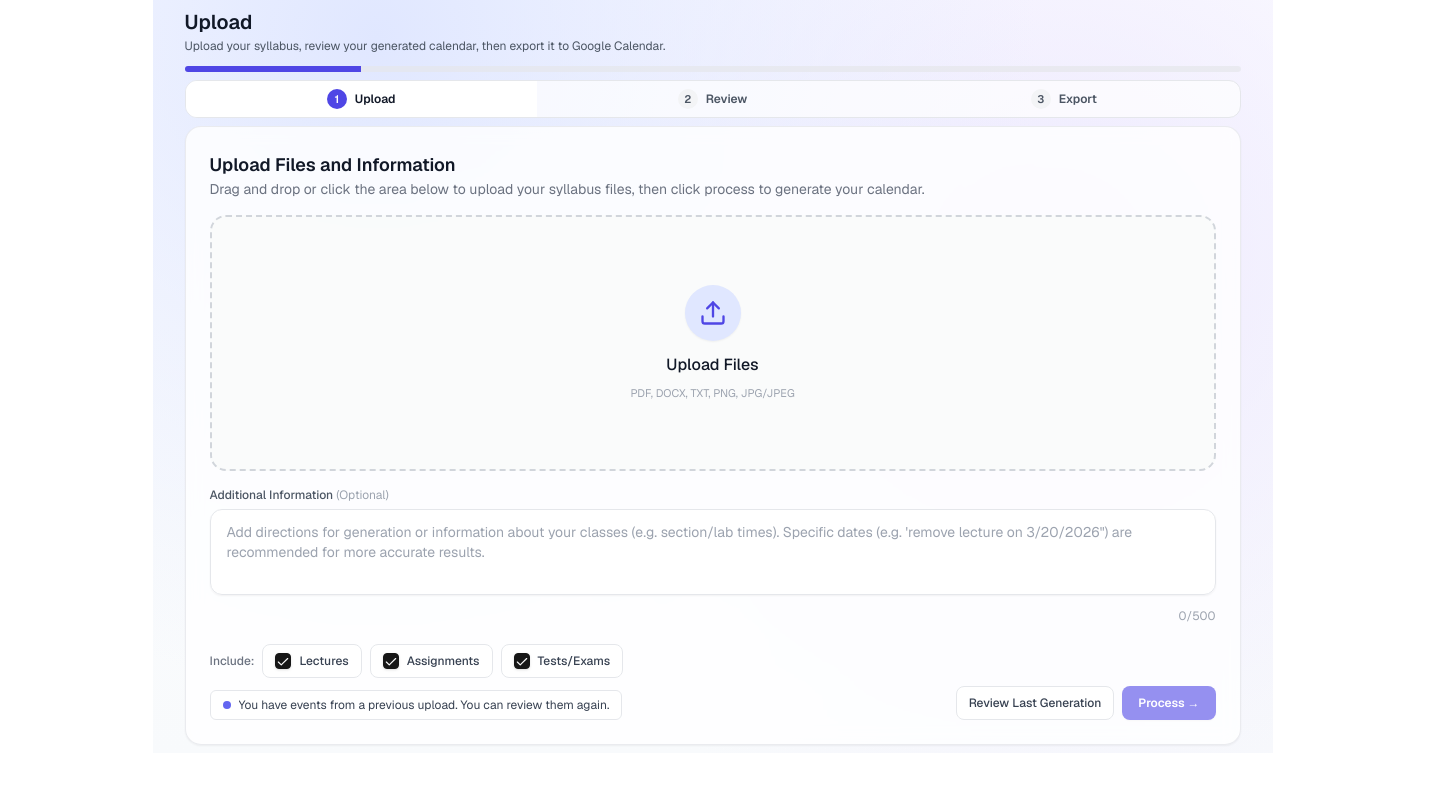
Test: Uploads unit tests › Step 2 - Review panel › category filter buttons › renders all four filter buttons
The width and height of the screenshot is (1440, 810).
Click the button "2 Review" at (712, 99), box x1=537 y1=81 x2=888 y2=117
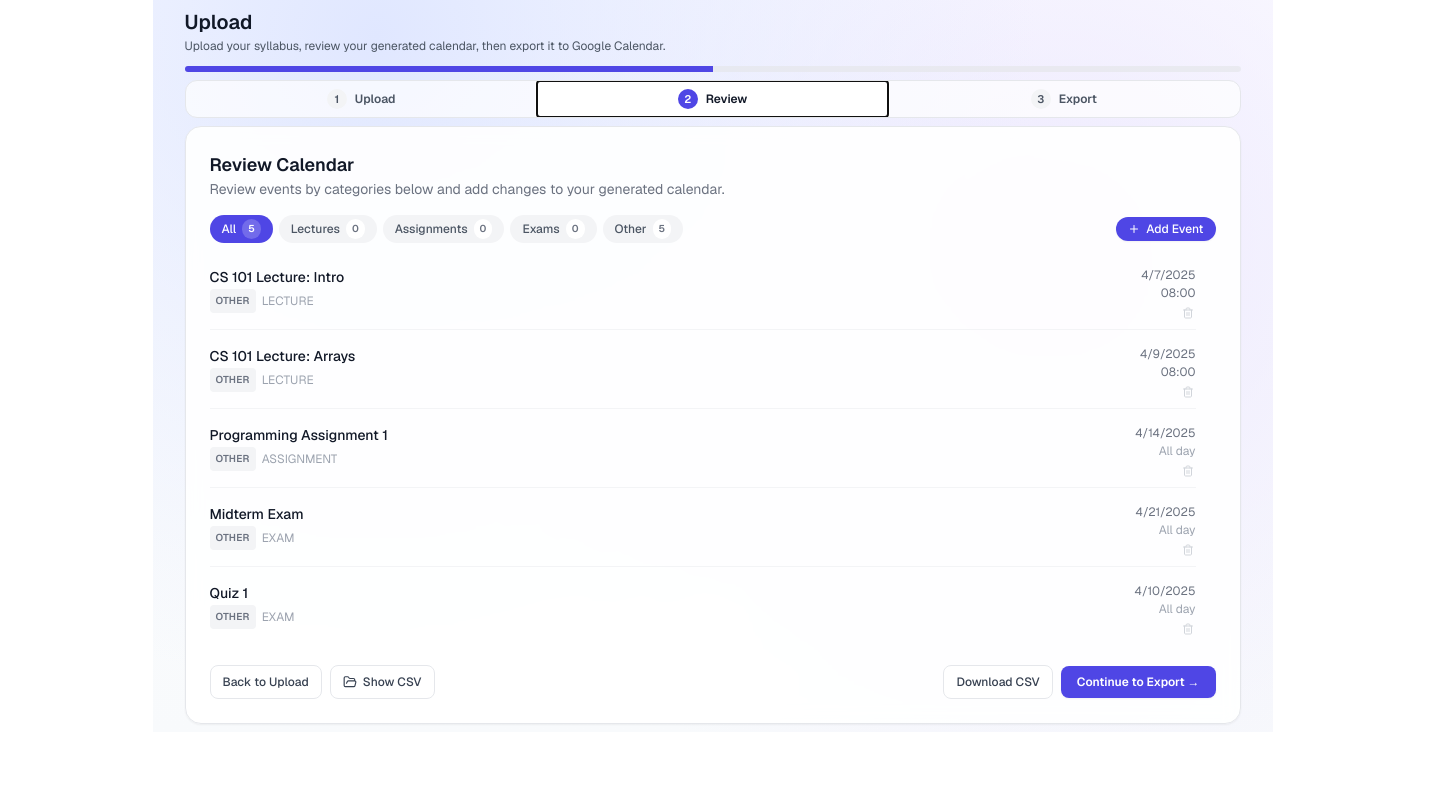
expect the button "All 5" is shown: met, box x1=210 y1=215 x2=273 y2=243
expect the button "Lectures 0" is shown: met, box x1=279 y1=215 x2=377 y2=243
expect the button "Assignments 0" is shown: met, box x1=383 y1=215 x2=504 y2=243
